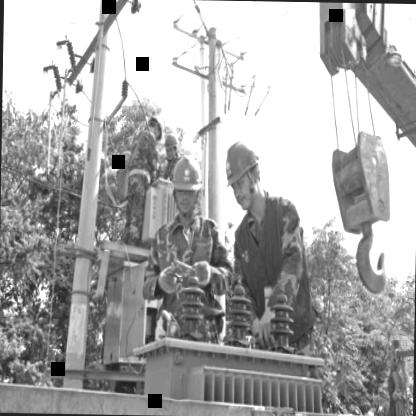helmet: (221, 133, 264, 214), (169, 150, 203, 222), (146, 112, 166, 142), (162, 131, 180, 163)
